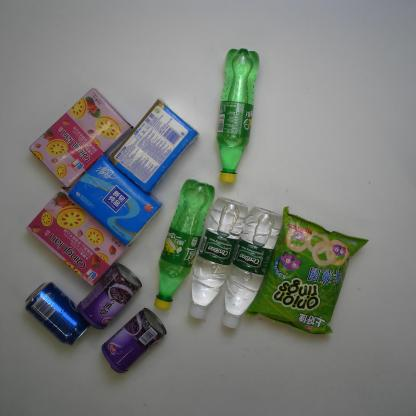Canned Food: (76, 263, 144, 330), (100, 307, 167, 374)
Dessert: (27, 87, 133, 188), (25, 186, 129, 286)
Drink: (154, 178, 215, 312), (221, 206, 283, 329), (188, 197, 249, 320), (216, 48, 260, 184), (24, 281, 91, 347)
Puffed Food: (245, 205, 369, 336)
Tissue: (66, 154, 163, 247), (109, 97, 200, 194)
